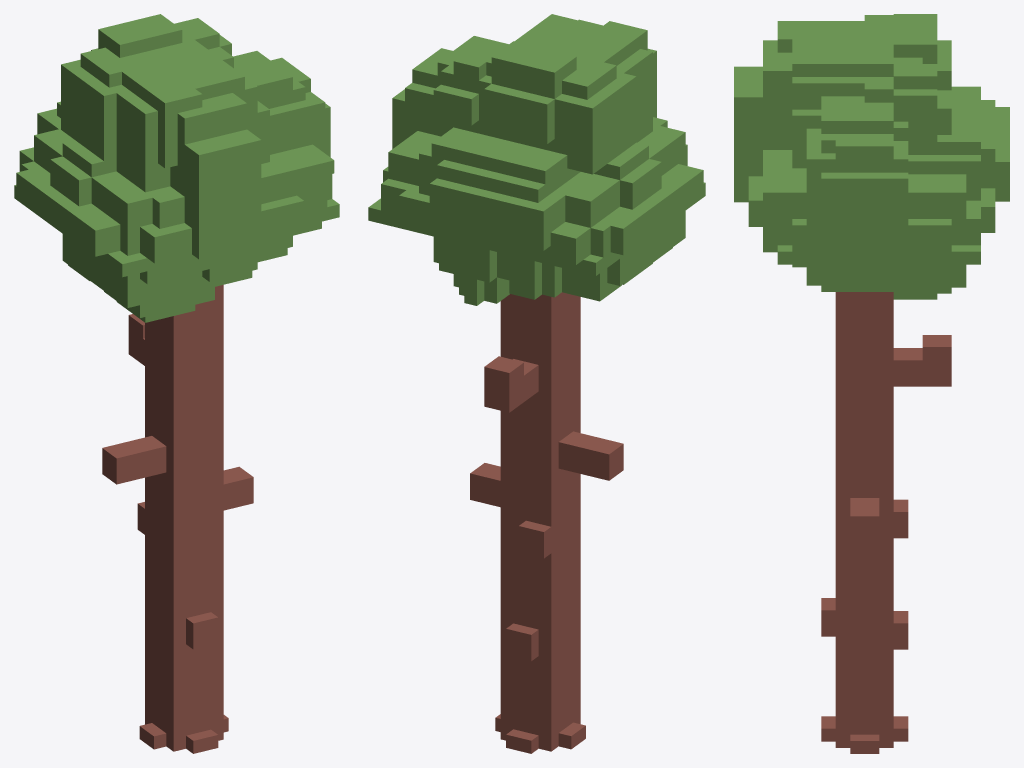
Rendered from arvores-4.obj.
The picture shows the model from 3 angles, left to right: view 1: azimuth 30°, elevation 25°; view 2: azimuth 150°, elevation 25°; view 3: azimuth 270°, elevation 25°; orthographic projection.
Size of the model in its own units: 2 by 5.3 by 1.9.
Materials: 1 (1 with a texture image).
